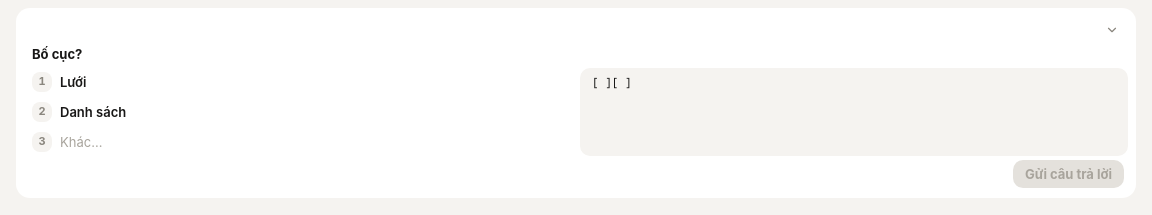
Test case: QuestionStepperInput › preview monospace theo lựa chọn đang trỏ
Check: the text named "Xem trước lựa chọn" reads "[ ][ ]", box left=592, top=76, right=632, bottom=90
Hover over the radio button labelled "2 Danh sách".
mouse_move(93, 112)  # box left=24, top=98, right=572, bottom=126
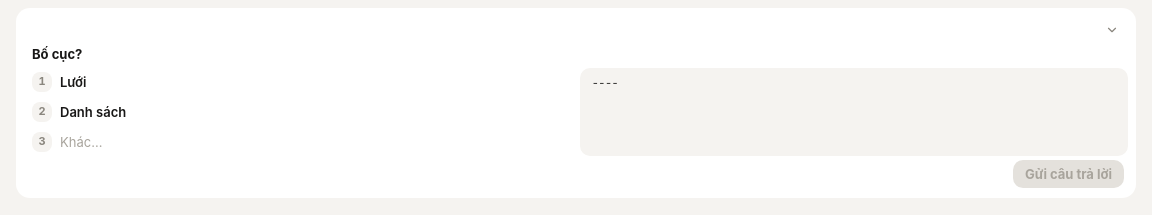
Check: the text named "Xem trước lựa chọn" reads "----", box left=592, top=76, right=618, bottom=90
